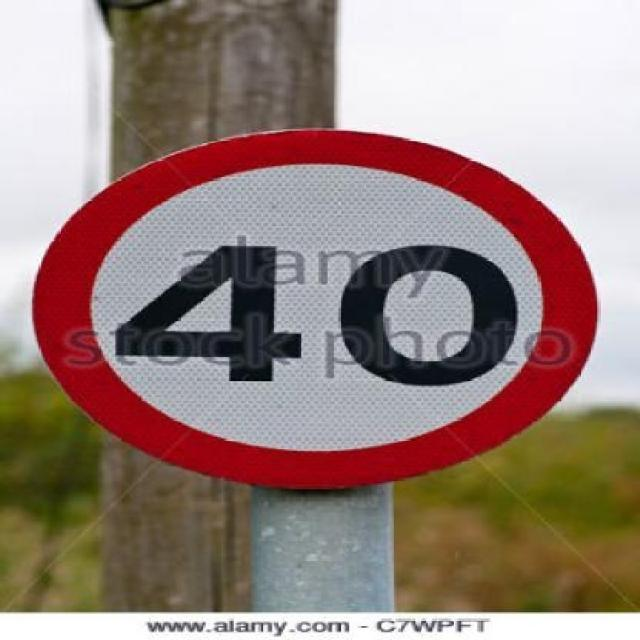forb_speed_over_40: (46, 130, 599, 484)
